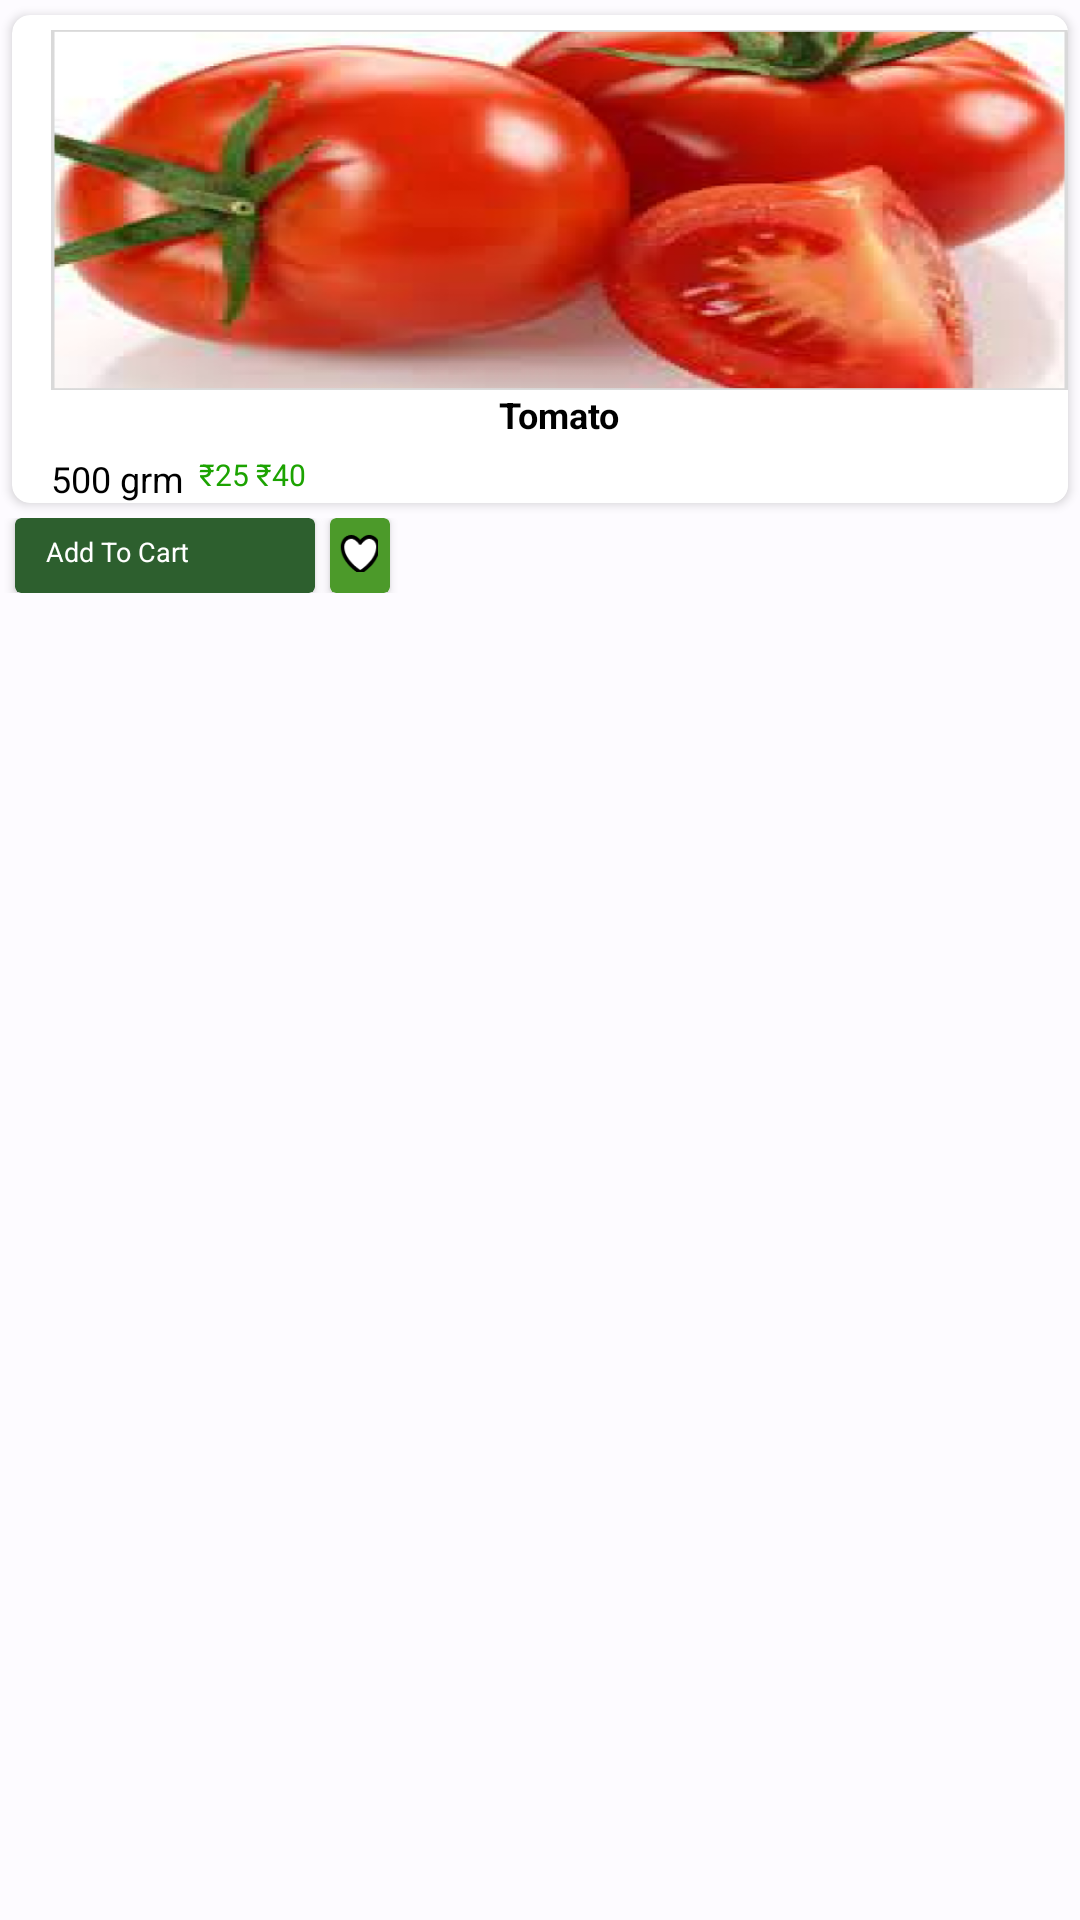

Screen size 1080px×1920px. Icon name, then its center in pixels as (x=x, y=y):
hratr: (x=359, y=553)
